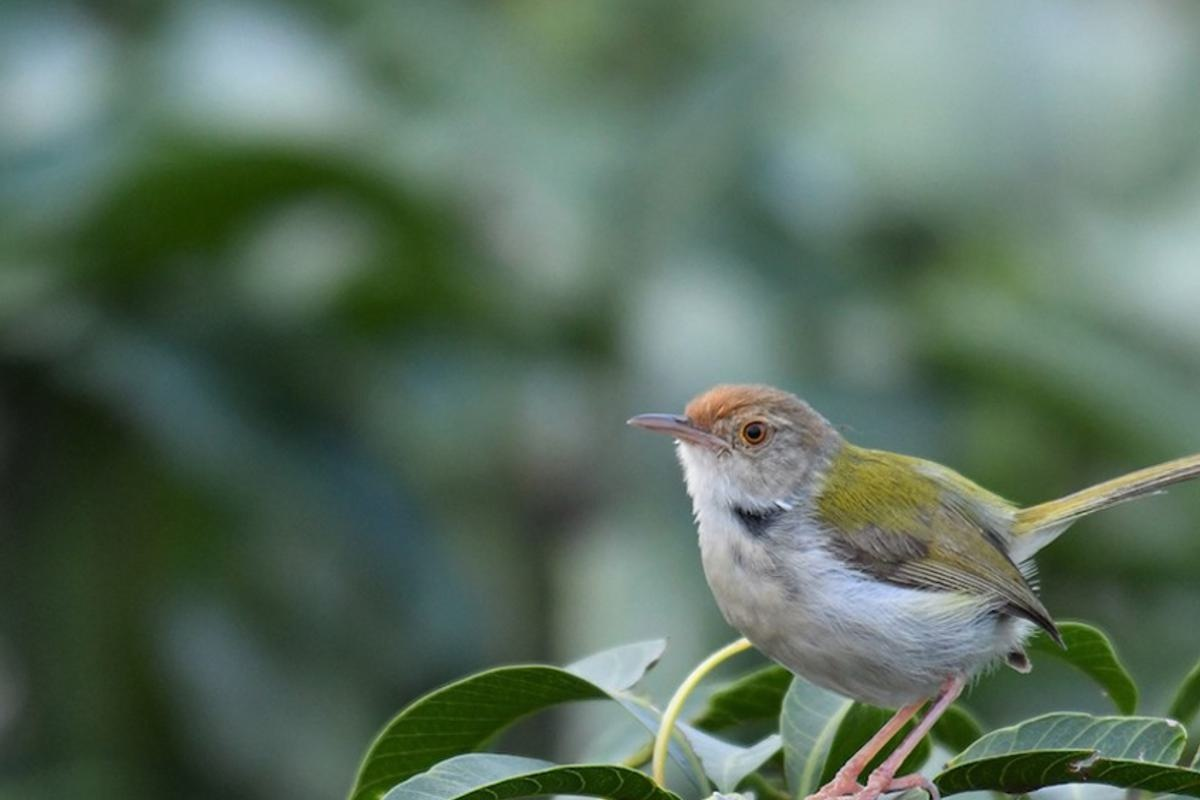tailorbird: (630, 368, 1180, 767)
